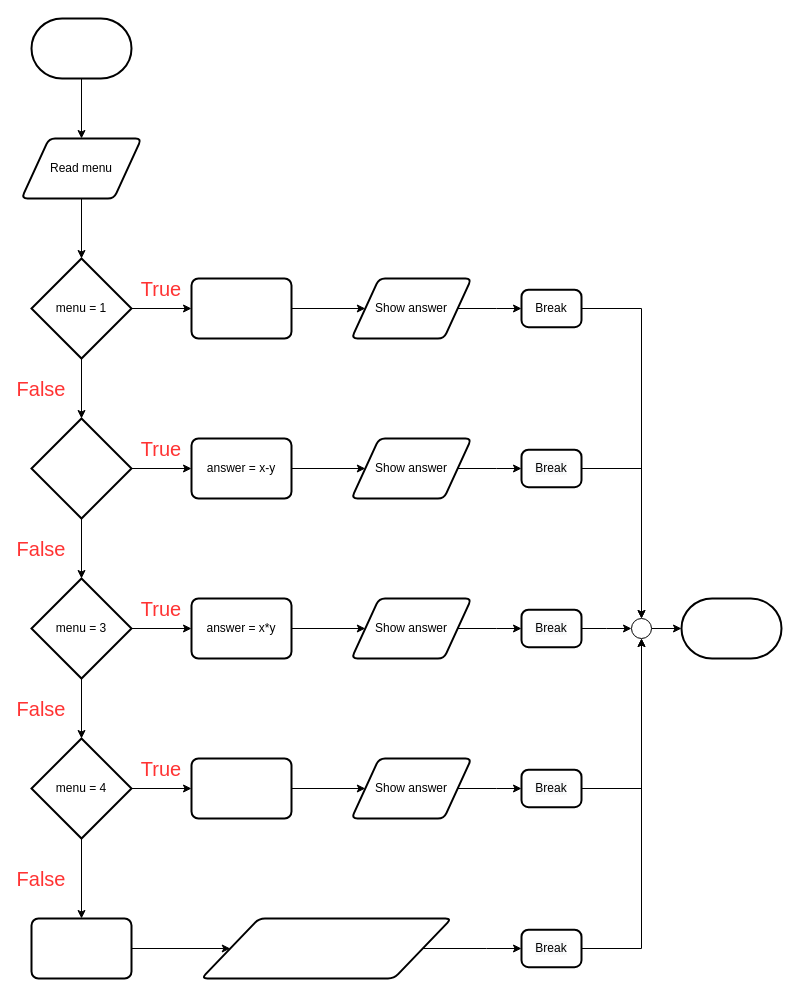
Some shapes in this 800 by 1001 pixel diagram are drawn without their labels. The shapes that lost their labels are listed below. From the top down, each one's centre as x and y in pixels, then its label:
(x=81, y=48): Start
(x=241, y=308): answer = x+y
(x=81, y=468): menu = 2
(x=731, y=628): End
(x=241, y=788): answer = x/y
(x=81, y=948): default
(x=326, y=948): Show "You put invalid choice"
